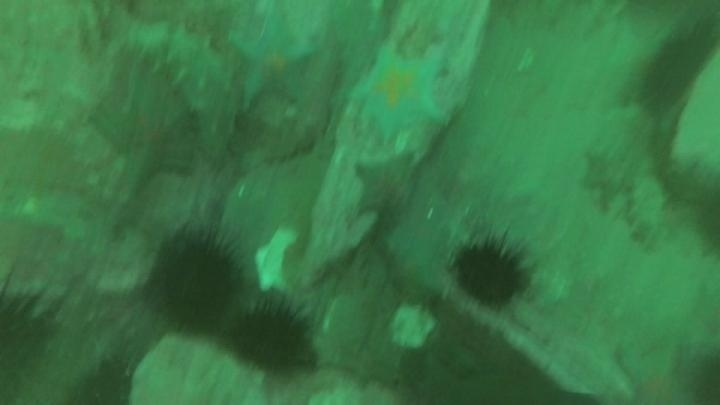echinus: (152, 232, 242, 330), (1, 270, 60, 403), (226, 304, 314, 377), (451, 237, 532, 310), (69, 354, 137, 405), (689, 178, 720, 258), (686, 349, 720, 405)
holothurian: (129, 23, 241, 156), (624, 171, 668, 252)
starfish: (86, 75, 195, 195), (350, 43, 451, 142), (229, 12, 320, 110), (382, 217, 452, 302), (614, 340, 697, 405), (351, 153, 420, 221), (579, 149, 631, 209)
